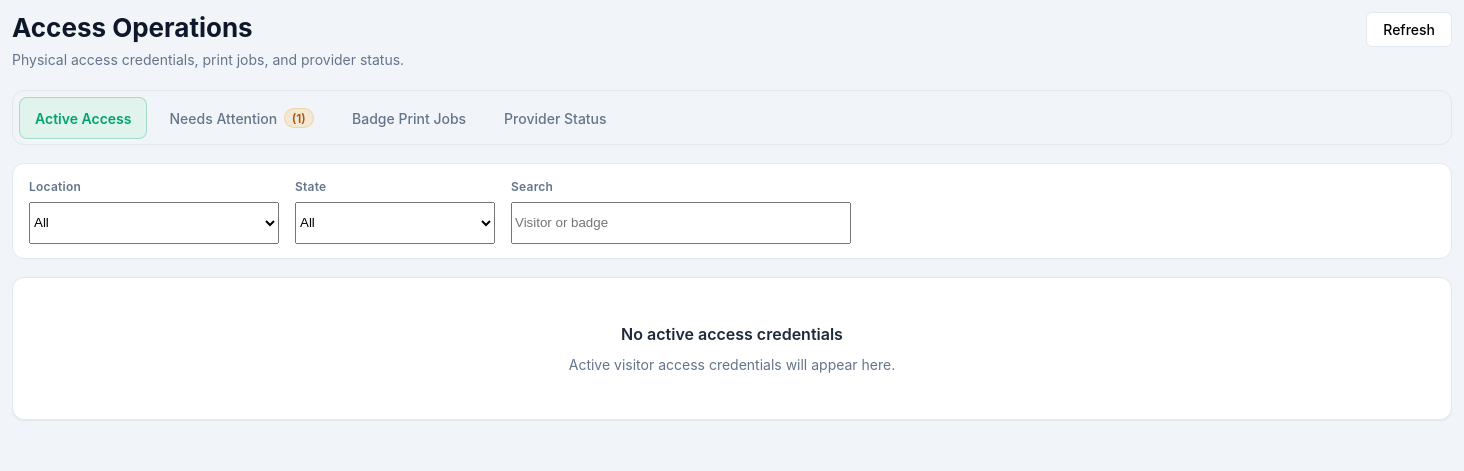
Test: Phase 14.1 Urgent attention UI › shows URGENT checked-out active access
Click the tab "Needs Attention (1)" at (242, 118), box [154, 97, 330, 139]
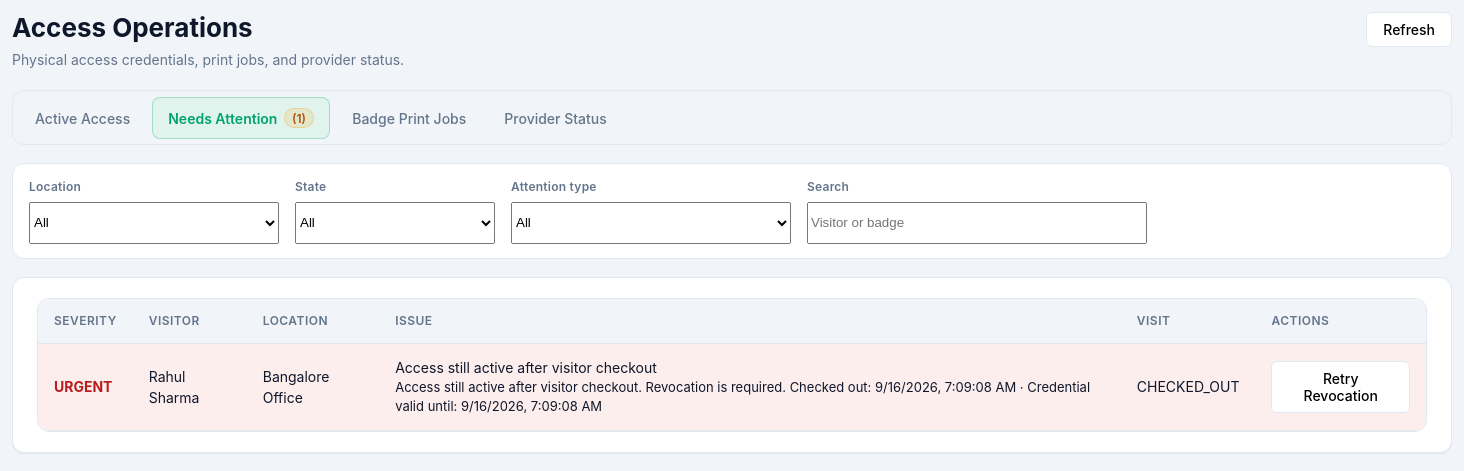
Now the text "URGENT" is shown, box [54, 378, 112, 396]
Now the text "Revocation is required" is shown, box [395, 379, 786, 395]
Now the button "Retry Revocation" is shown, box [1272, 361, 1410, 413]
